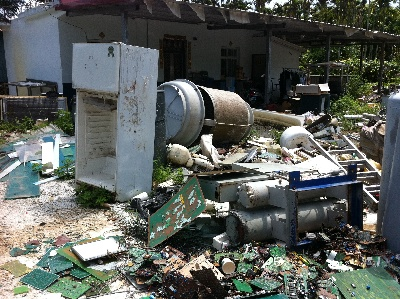bowl: (220, 257, 237, 274)
box: (73, 91, 155, 202)
water_tower: (157, 77, 255, 145)
